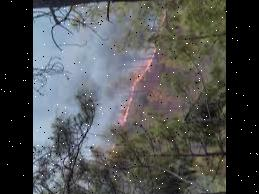fire: (120, 44, 156, 125)
